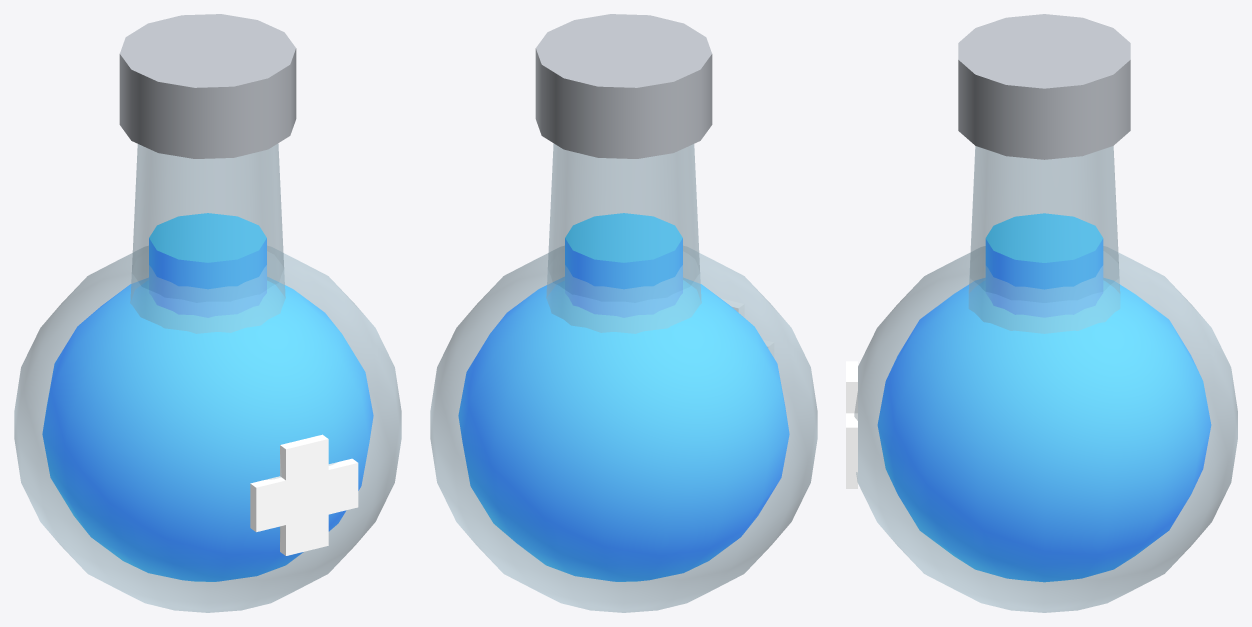
File: ShieldPotion.glb
The picture shows the model from 3 angles, left to right: view 1: azimuth 30°, elevation 25°; view 2: azimuth 150°, elevation 25°; view 3: azimuth 270°, elevation 25°; orthographic projection.
Visible parts, largest first — view 1: Bottle, Liquid, Cap, Label; view 2: Bottle, Liquid, Cap; view 3: Bottle, Liquid, Cap, Label.
Boxes of the visible parts, bbox=[...] form: Bottle: bbox=[14, 144, 401, 612]; Liquid: bbox=[42, 213, 373, 581]; Cap: bbox=[119, 14, 296, 158]; Label: bbox=[250, 434, 358, 555]; Bottle: bbox=[430, 144, 817, 612]; Liquid: bbox=[458, 213, 789, 581]; Cap: bbox=[535, 14, 712, 158]; Bottle: bbox=[854, 146, 1237, 612]; Liquid: bbox=[877, 213, 1211, 582]; Cap: bbox=[958, 14, 1130, 159]; Label: bbox=[846, 361, 857, 488].
Bounding box in the file's own units: 0.2 × 0.305 × 0.1995.
